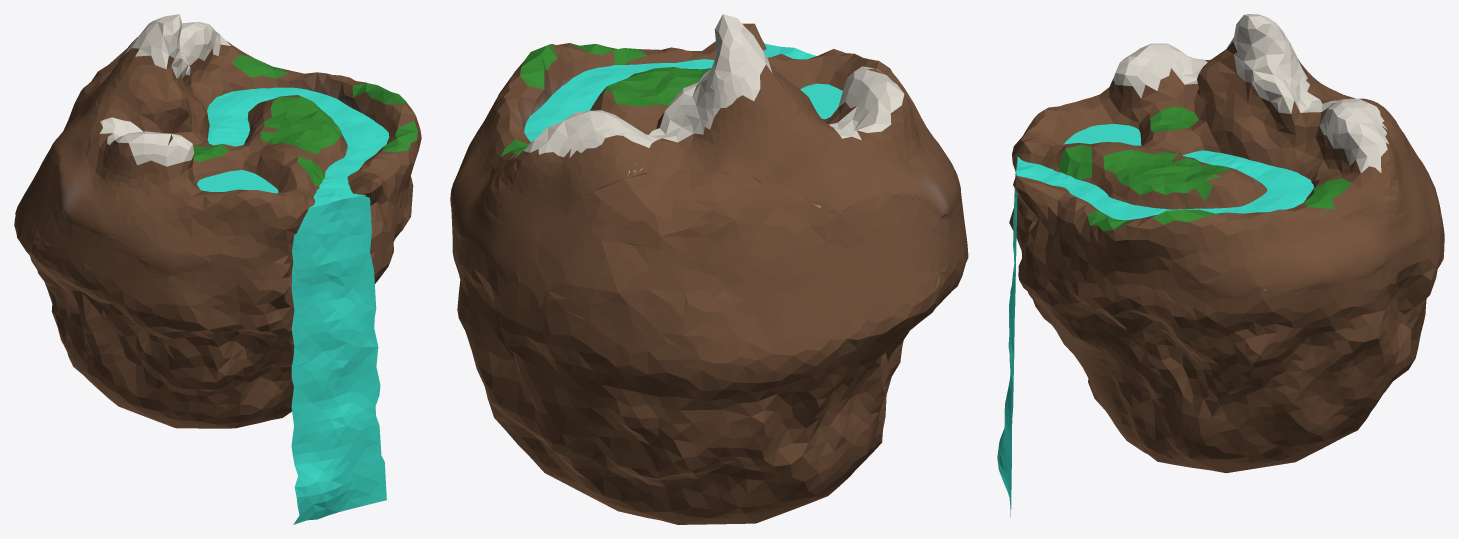
File: hakoniwa-level-001.gltf
3 renders of one model, left to right at view 1: azimuth 30°, elevation 25°; view 2: azimuth 150°, elevation 25°; view 3: azimuth 270°, elevation 25°, orthographic. The views are drawn at different scales.
Visible parts, largest first — view 1: Hakoniwa; view 2: Hakoniwa; view 3: Hakoniwa.
Boxes of the visible parts, x1,y1,x2,y2 form: Hakoniwa: (14, 14, 421, 524); Hakoniwa: (450, 14, 968, 524); Hakoniwa: (997, 14, 1444, 517).
Size of the model in its own units: 49.1 by 56.42 by 49.91.
